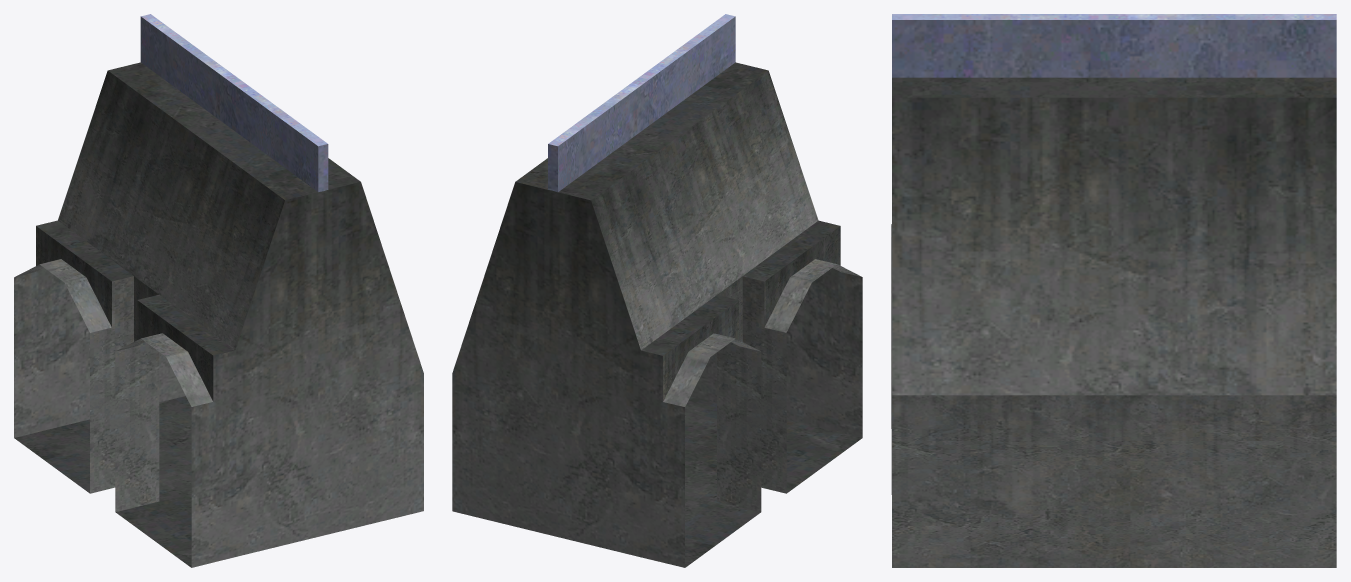
The model's file is thm_yavn_jedi_enclave_dark_r2_landing1_mesh.fbx.
3 renders of one model, left to right at view 1: azimuth 30°, elevation 25°; view 2: azimuth 150°, elevation 25°; view 3: azimuth 270°, elevation 25°, orthographic. The views are drawn at different scales.
Visible parts, largest first — view 1: mesh_node; view 2: mesh_node; view 3: mesh_node.
Part boxes in pixels (left/top/right/bottom): mesh_node: left=14, top=14, right=423, bottom=567; mesh_node: left=452, top=14, right=862, bottom=567; mesh_node: left=891, top=14, right=1336, bottom=567.
Bounding box in the file's own units: 5.3 × 8.5 × 7.01.
